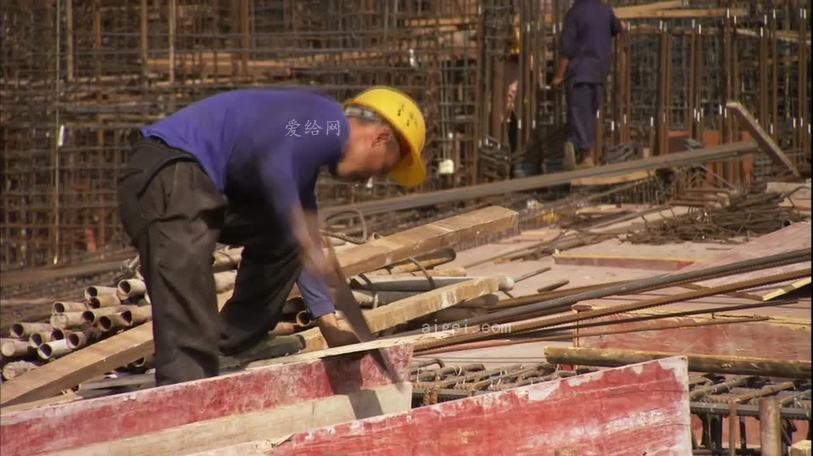safetyhat: (59, 62, 492, 380)
